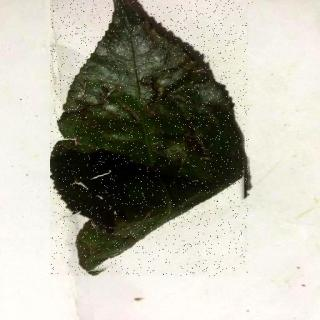Red Leaf Spot: (52, 1, 251, 277)
